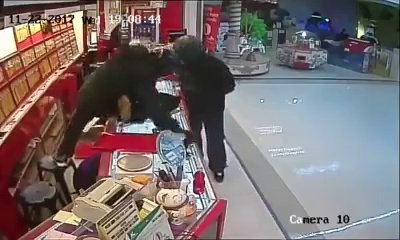helmet: (173, 35, 206, 63)
